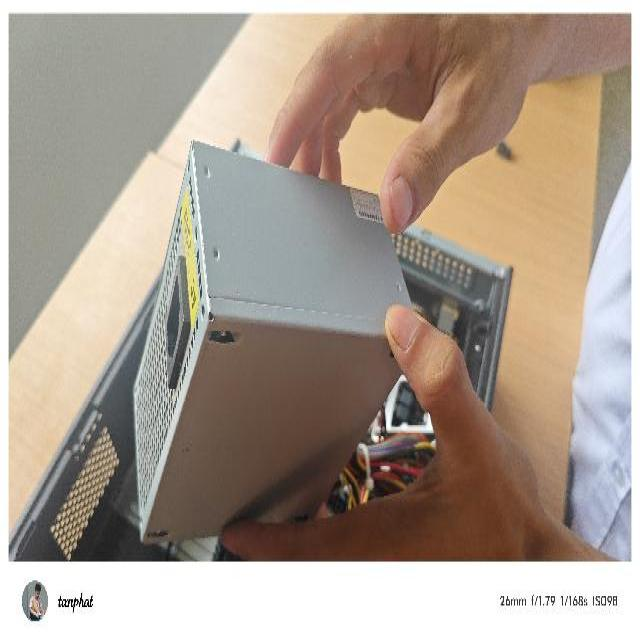PSU: (128, 133, 422, 549)
